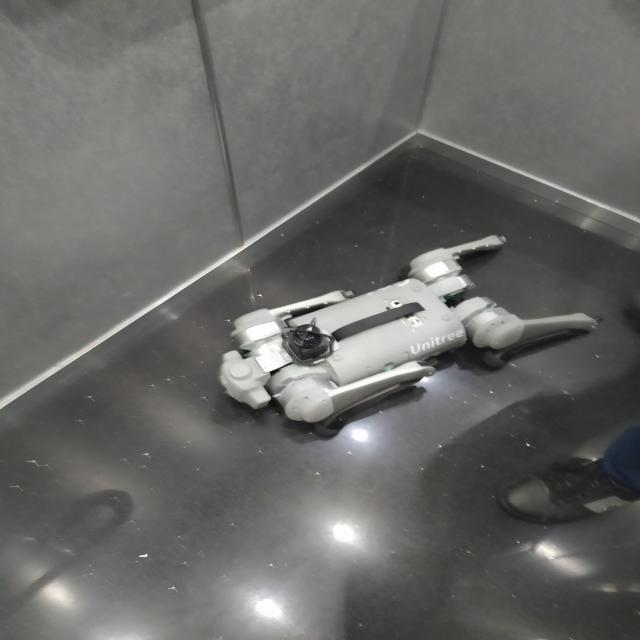unitree-go1-robot: (228, 237, 600, 433)
